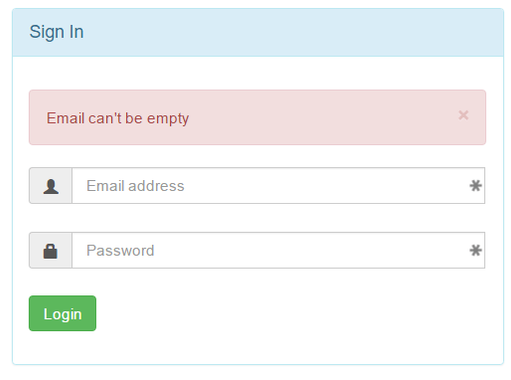error_message: (45, 110, 191, 128)
